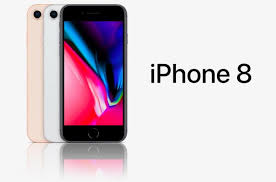iphone: (57, 2, 131, 147)
iphone8: (56, 1, 130, 145)
